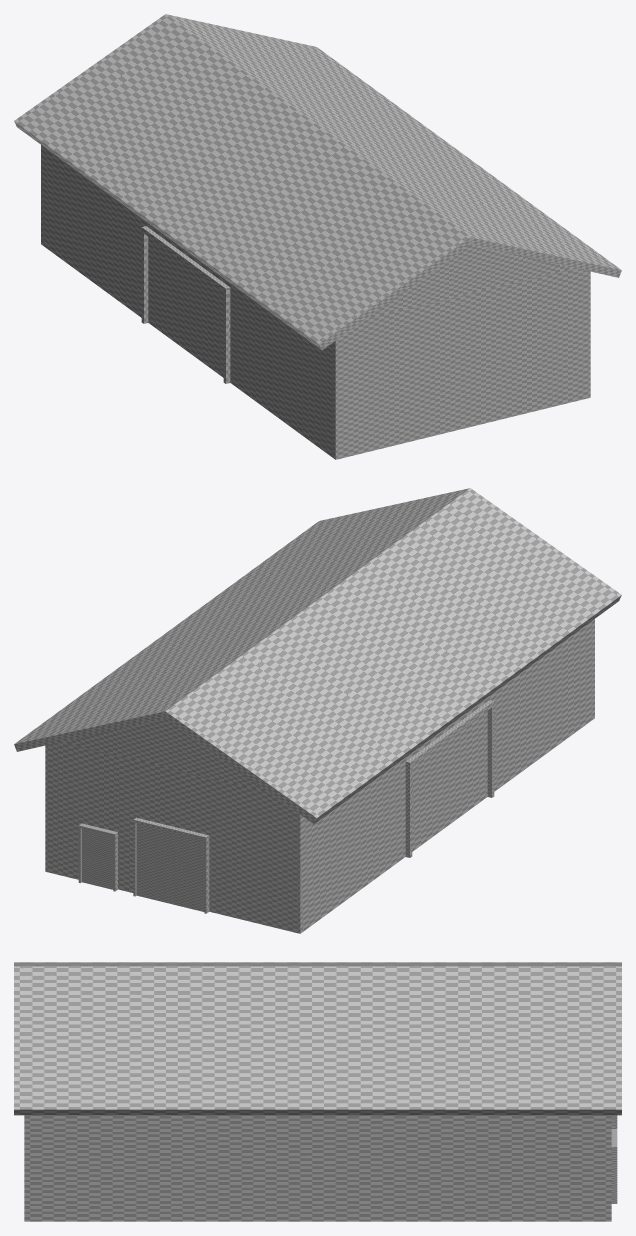
File: grangeCompleteTexture.fbx
3 views of the same model, one above another, from view 1: azimuth 30°, elevation 25°; view 2: azimuth 150°, elevation 25°; view 3: azimuth 270°, elevation 25° (orthographic).
Visible parts, largest first — view 1: Cube; view 2: Cube; view 3: Cube.
Part boxes in pixels (x1,y1,x2,y2): Cube: (14,14,621,459); Cube: (14,488,621,933); Cube: (14,962,621,1221).
Size of the model in its own units: 1663 by 1022 by 2900.
